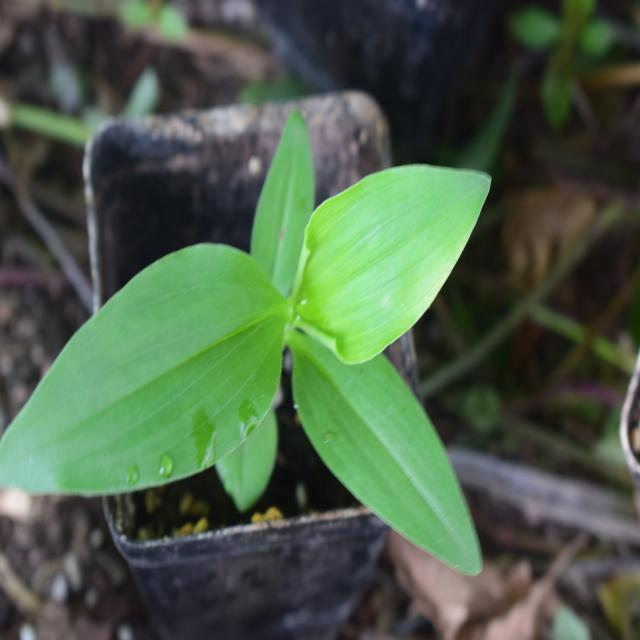Common Dayflower: (8, 142, 495, 580)
